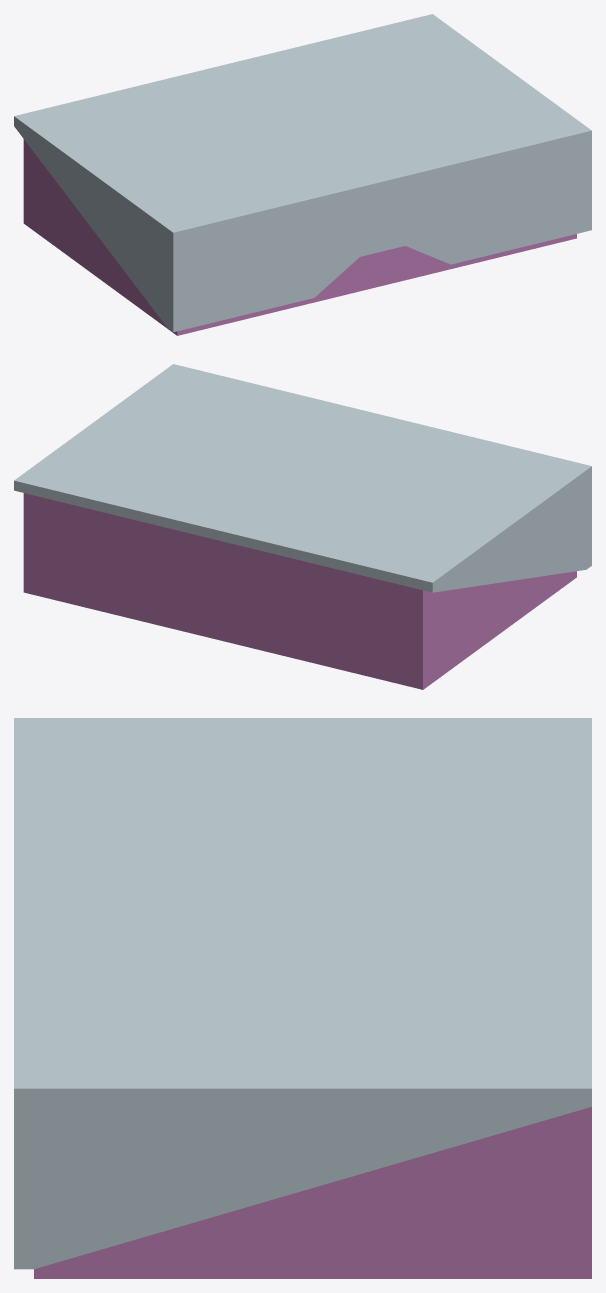
The model's file is DonutBox.fbx.
3 views of the same model, one above another, from view 1: azimuth 30°, elevation 25°; view 2: azimuth 150°, elevation 25°; view 3: azimuth 270°, elevation 25° (orthographic). The views are drawn at different scales.
Parts seen in each view (by area): view 1: DonutBox_Lid, DonutBox_Main; view 2: DonutBox_Lid, DonutBox_Main; view 3: DonutBox_Lid, DonutBox_Main.
Boxes of the visible parts, x1,y1,x2,y2 form: DonutBox_Lid: (14,14,591,332); DonutBox_Main: (23,139,576,335); DonutBox_Lid: (14,364,591,592); DonutBox_Main: (23,493,576,689); DonutBox_Lid: (14,718,591,1269); DonutBox_Main: (34,1107,591,1278).
Bounding box in the file's own units: 44 × 11 × 29.
